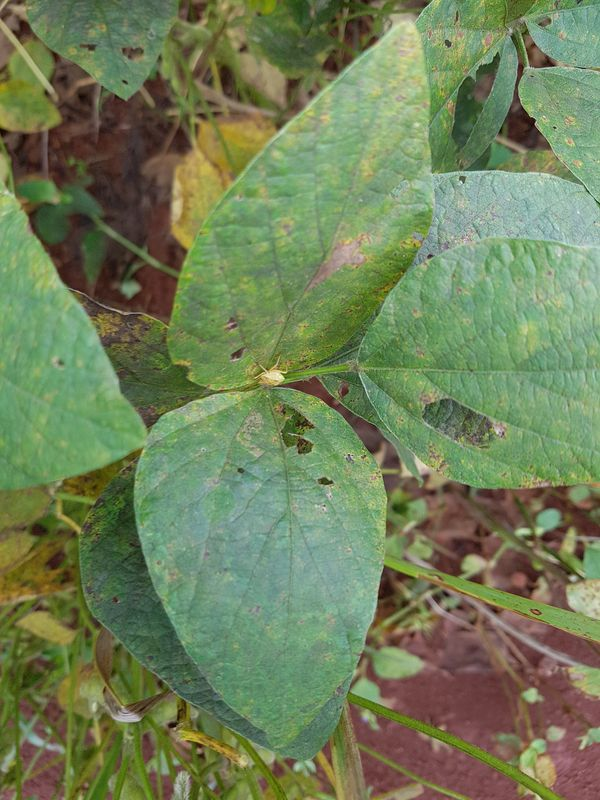Euschistus_heros_ninfa: (248, 355, 291, 395)
